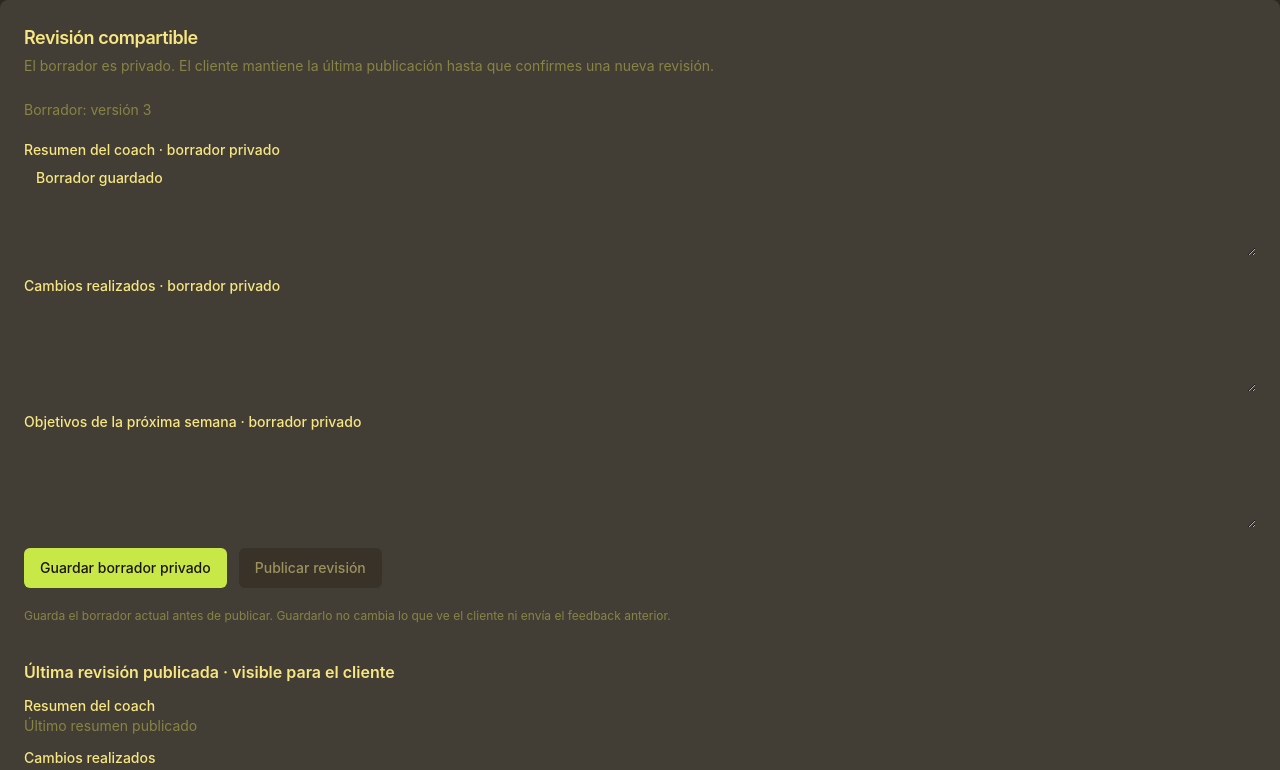
publication conflict retains the saved local version and never overwrites newer server content
This screenshot has width=1280, height=770.
Replace the text in the text box labelled "Resumen del coach · borrador privado" with "Mi revisión nueva" at (640, 208), box x1=24 y1=160 x2=1256 y2=256
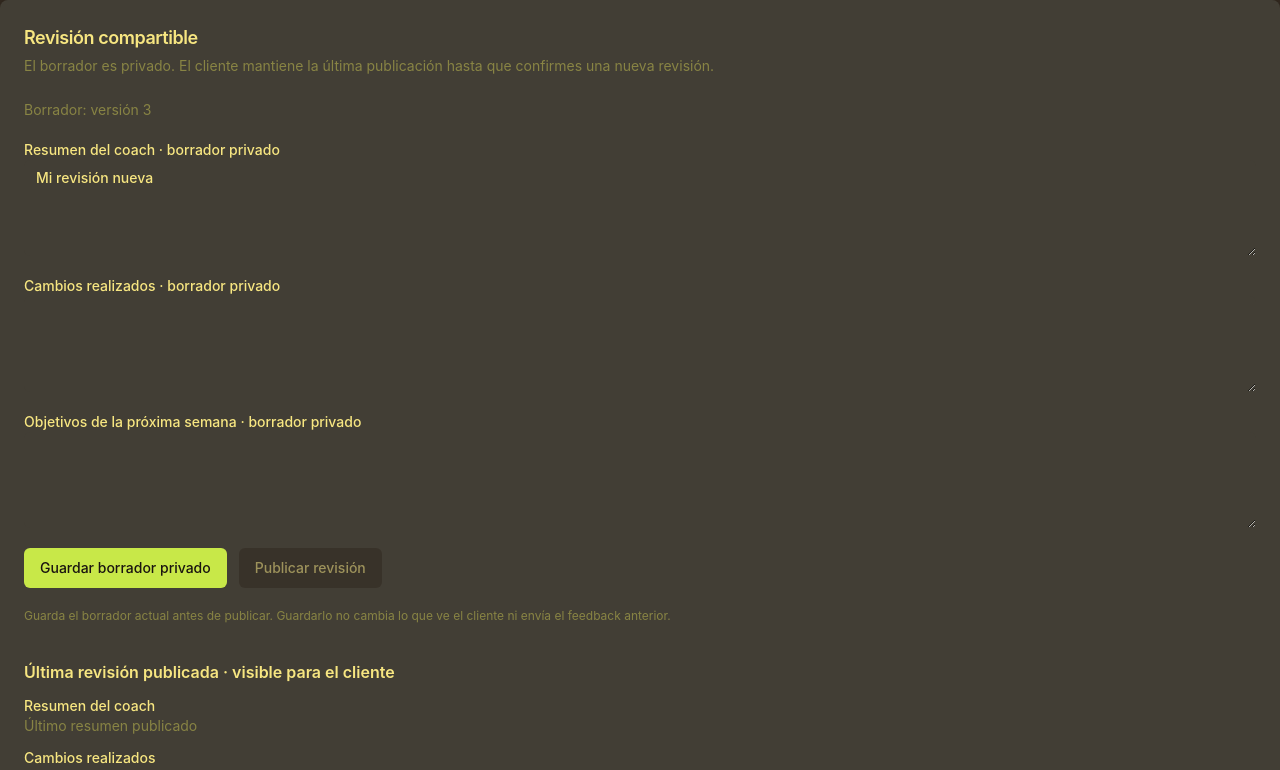
Click the button "Guardar borrador privado" at (125, 568), box x1=24 y1=548 x2=227 y2=588
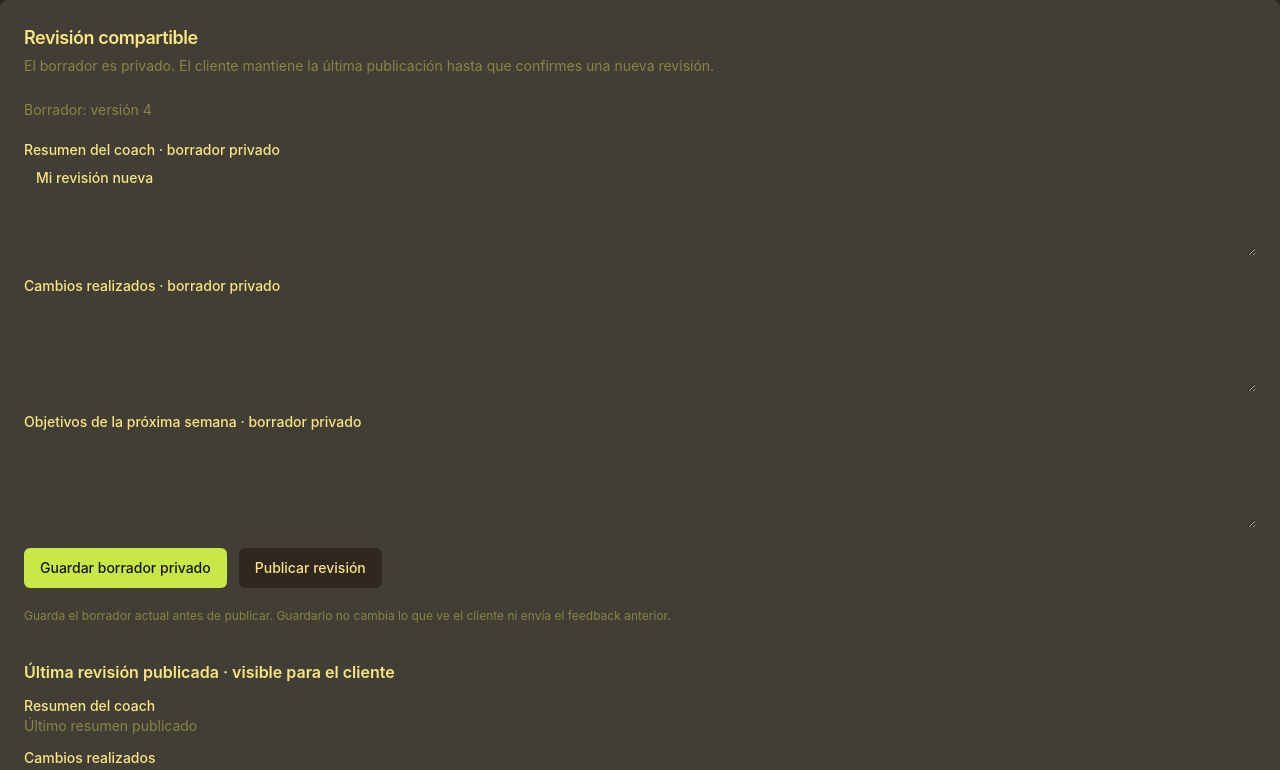
Now the button "Publicar revisión" is enabled
Click the button "Publicar revisión" at (310, 568), box x1=239 y1=548 x2=382 y2=588
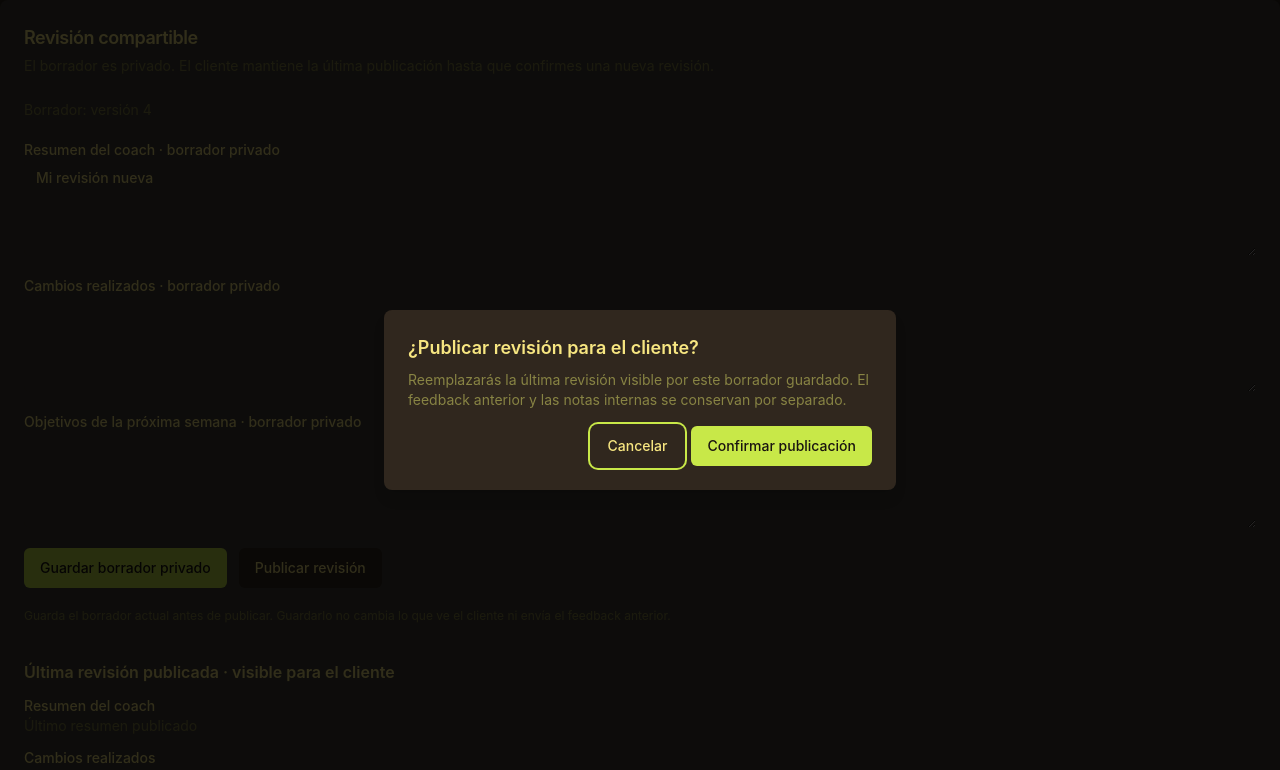
Click the button "Confirmar publicación" at (782, 446), box x1=691 y1=426 x2=872 y2=466
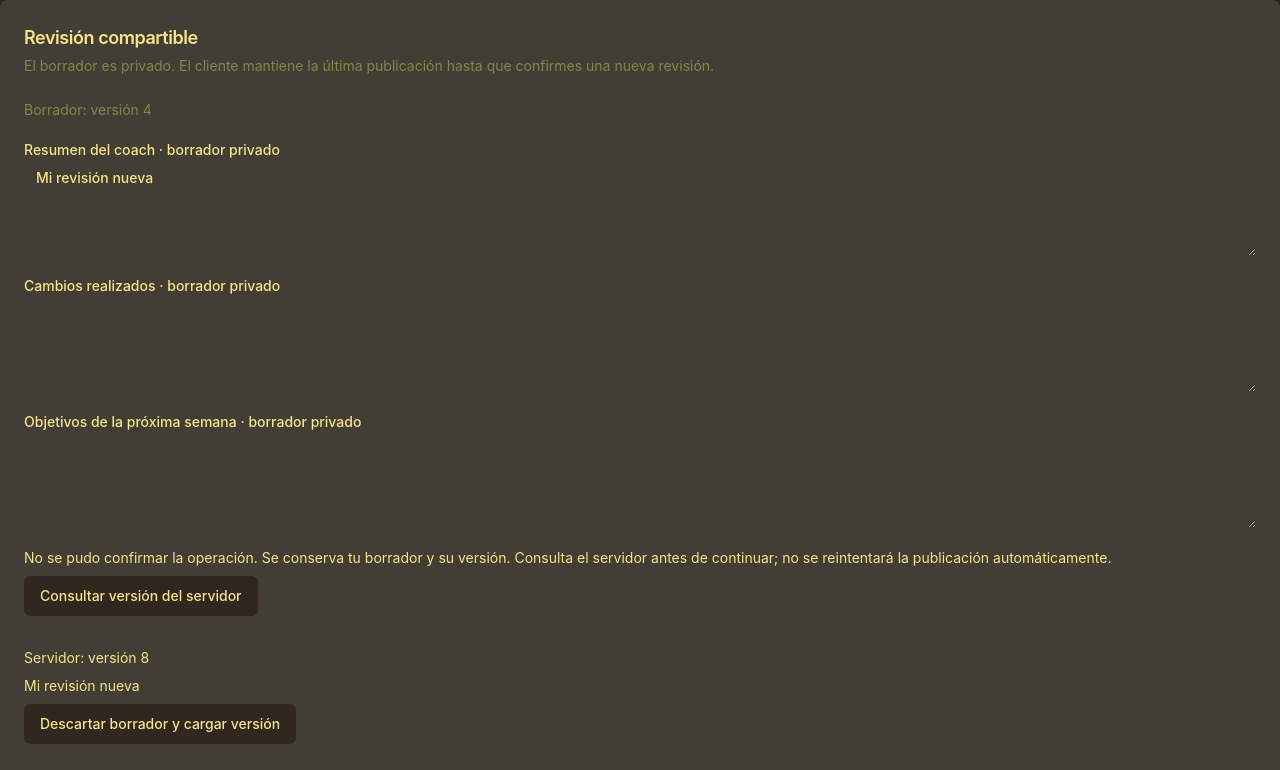
Now the text "Borrador: versión 4" is shown, box x1=24 y1=101 x2=152 y2=118
Now the text "Servidor: versión 8" is shown, box x1=24 y1=649 x2=149 y2=666
Click the button "Descartar borrador y cargar versión" at (160, 724), box x1=24 y1=704 x2=296 y2=744
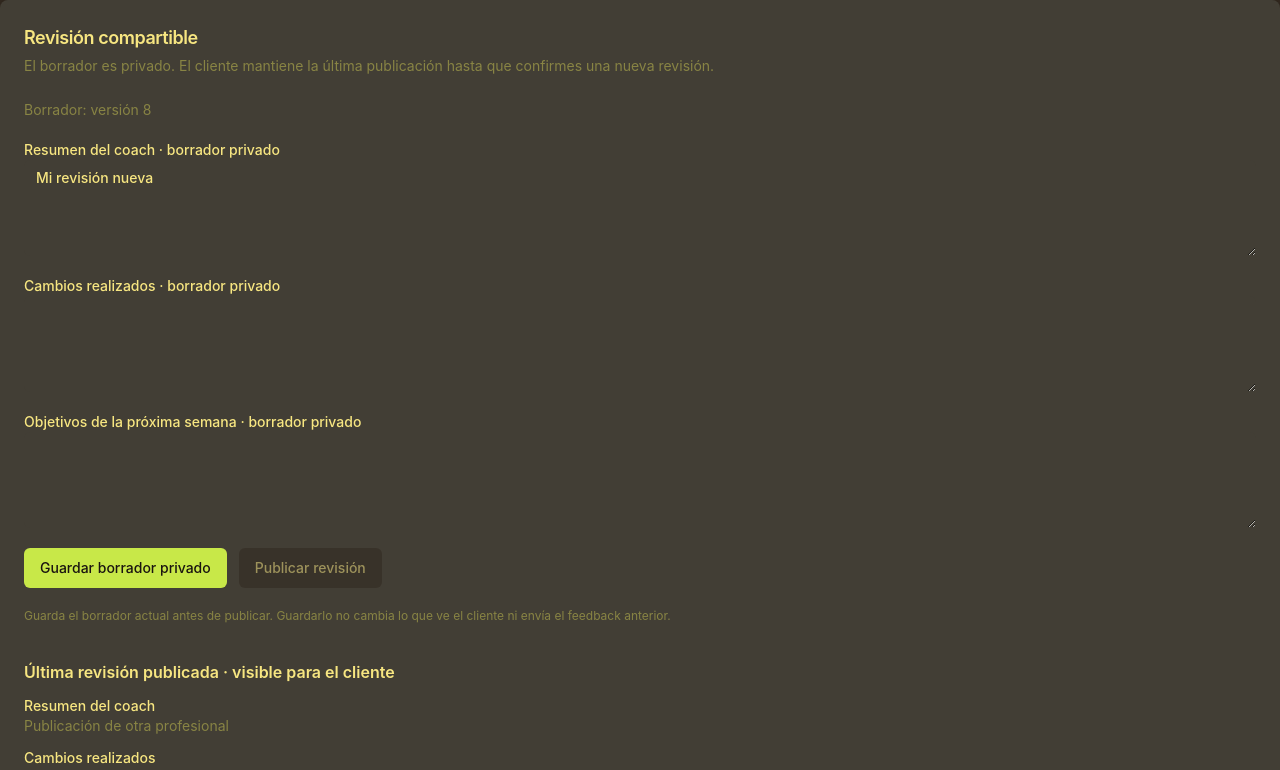
Now the button "Publicar revisión" is disabled, box x1=239 y1=548 x2=382 y2=588
Now the text "Publicación de otra profesional" is shown, box x1=24 y1=717 x2=229 y2=734
